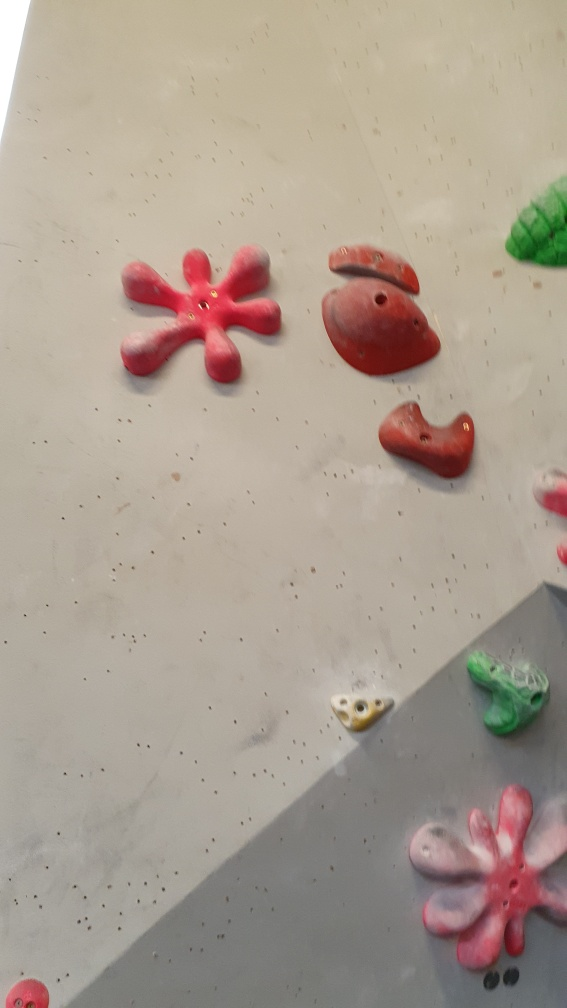Octopus Pinch: (406, 783, 567, 972), (113, 245, 288, 387)
